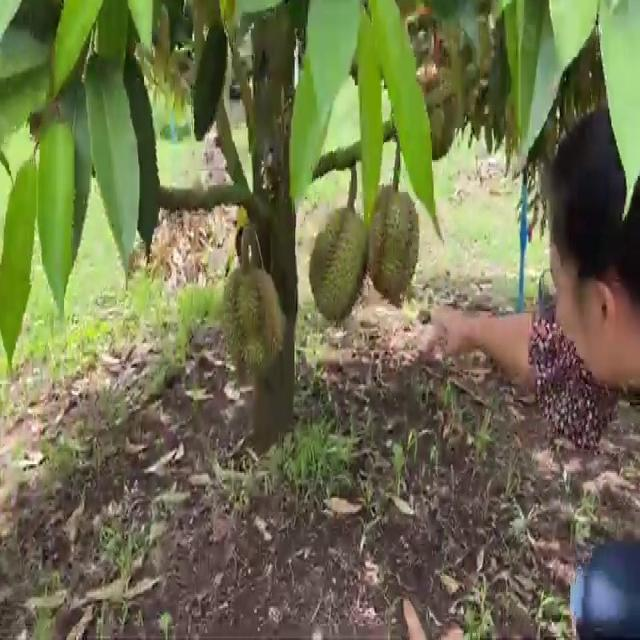durian: (362, 180, 423, 310), (221, 262, 288, 376), (308, 204, 369, 329)
